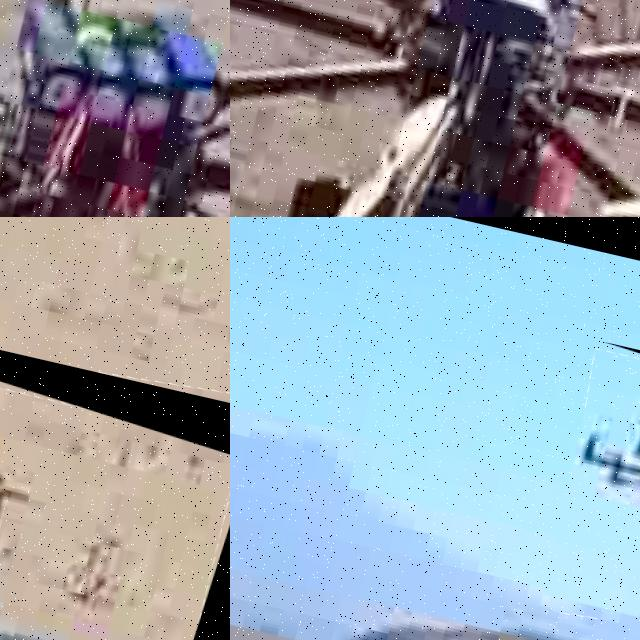drone: (230, 0, 640, 217), (0, 266, 230, 640), (0, 0, 230, 217), (539, 341, 640, 640)
